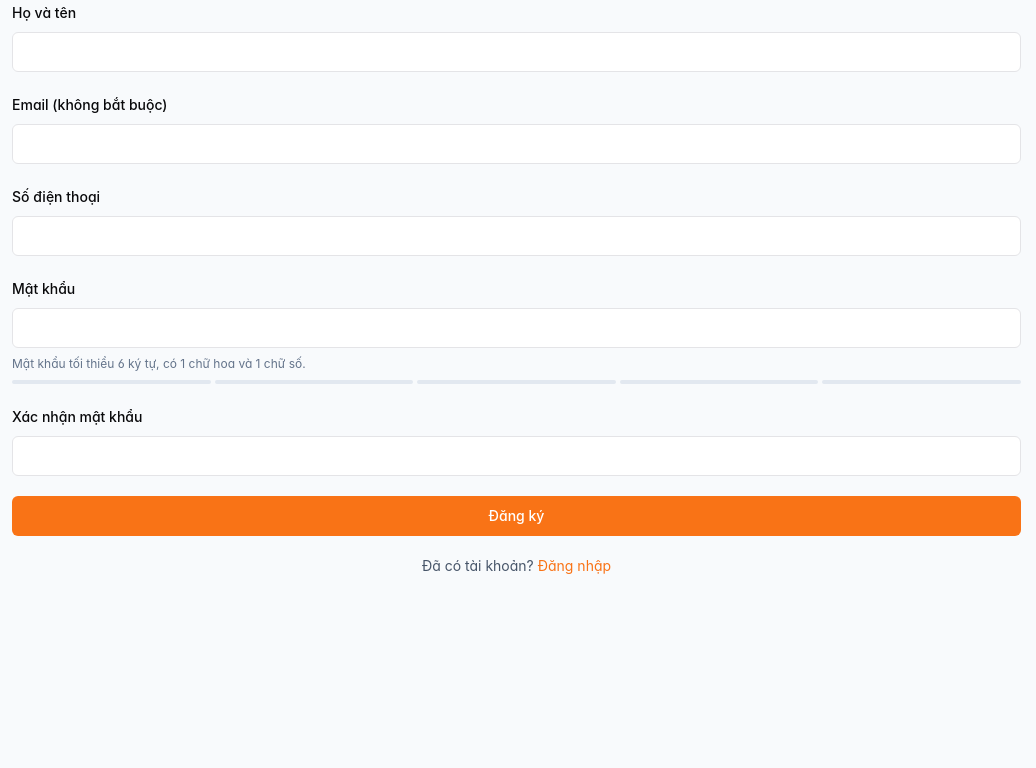
it: auth forms › surfaces the duplicate-email error inline on register
The width and height of the screenshot is (1036, 768).
Type "Nguyen Van A" into the field labelled "Họ và tên" at (516,52), box left=12, top=32, right=1021, bottom=72
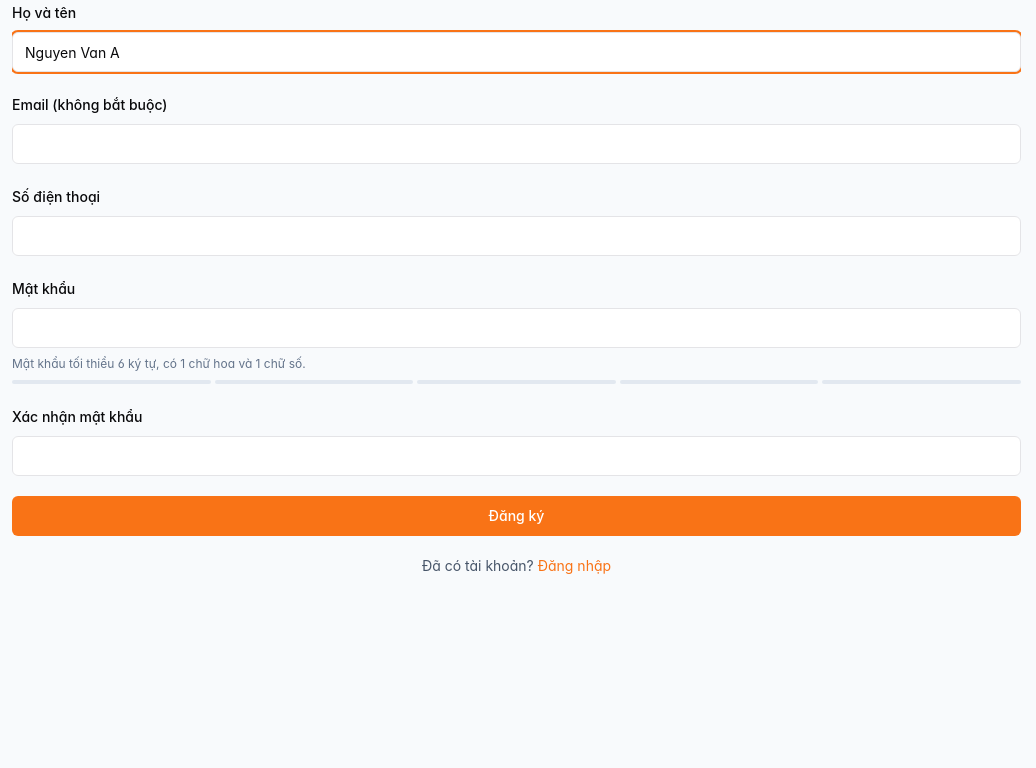
Type "ten@gmail.com" into the field labelled "Email (không bắt buộc)" at (516,144), box left=12, top=124, right=1021, bottom=164
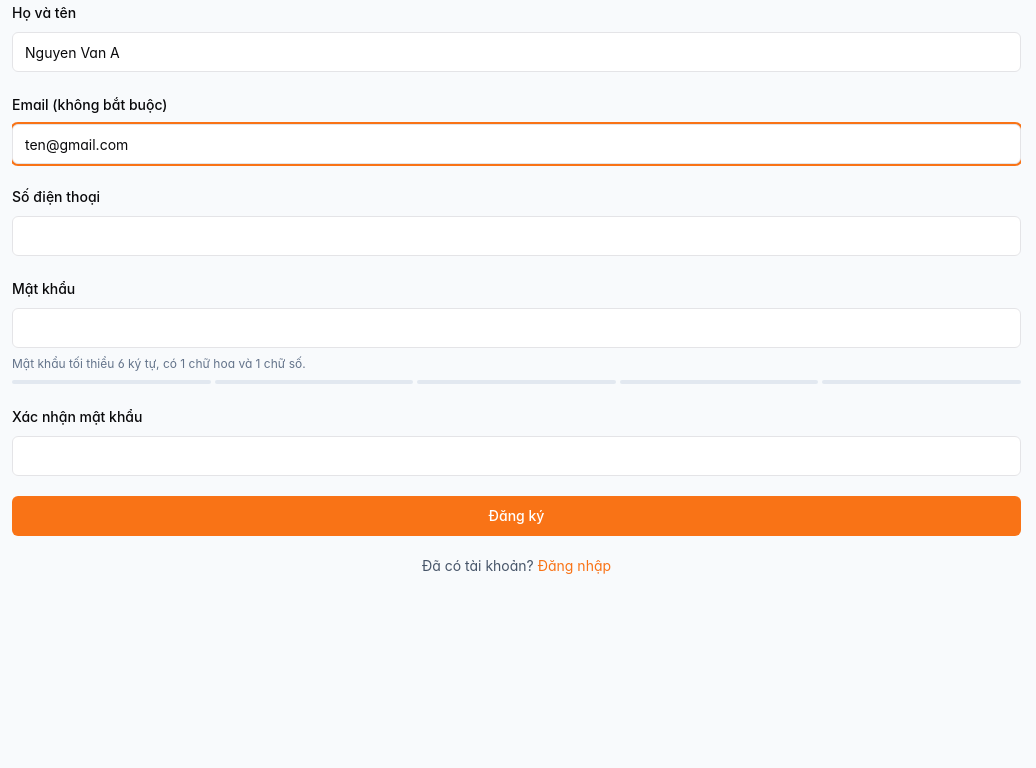
Type "0903026306" into the field labelled "Số điện thoại" at (516,236), box left=12, top=216, right=1021, bottom=256
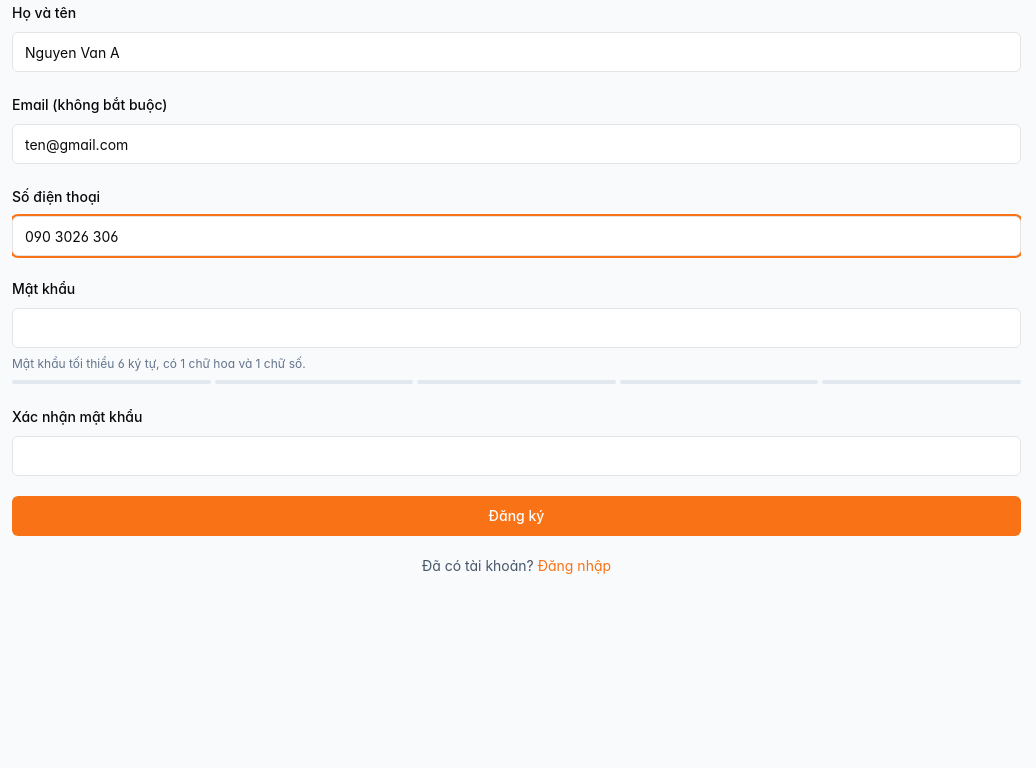
Type "Abc123" into the password field labelled "Mật khẩu" at (516,328), box left=12, top=308, right=1021, bottom=348
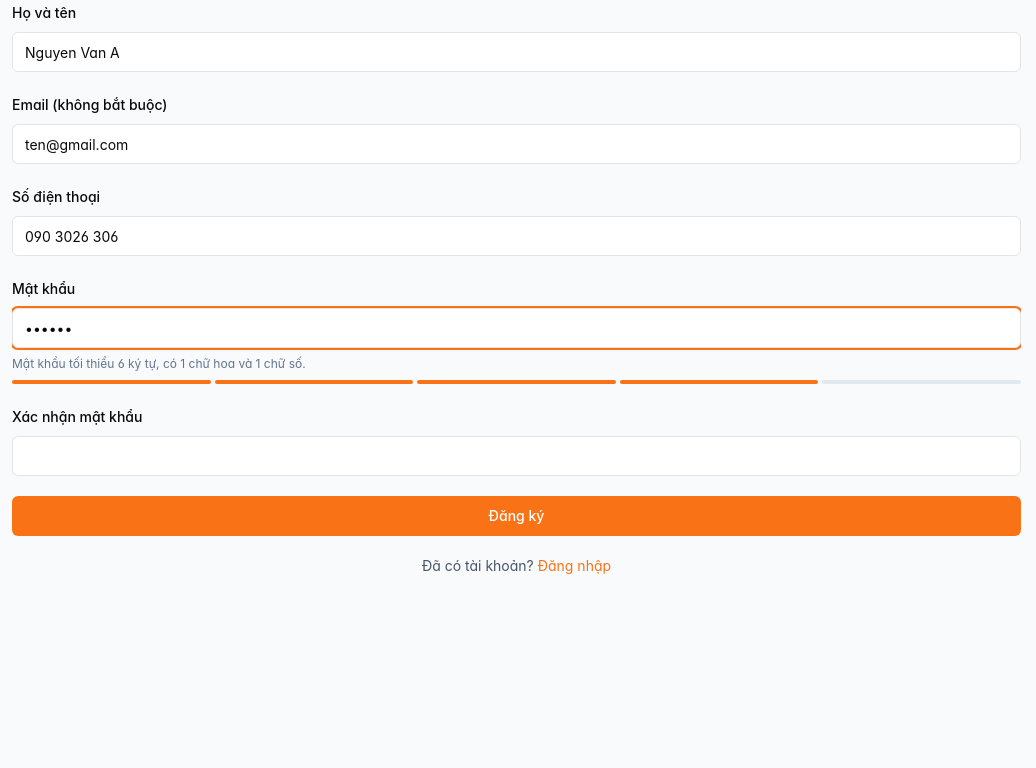
Type "Abc123" into the password field labelled "Xác nhận mật khẩu" at (516,456), box left=12, top=436, right=1021, bottom=476
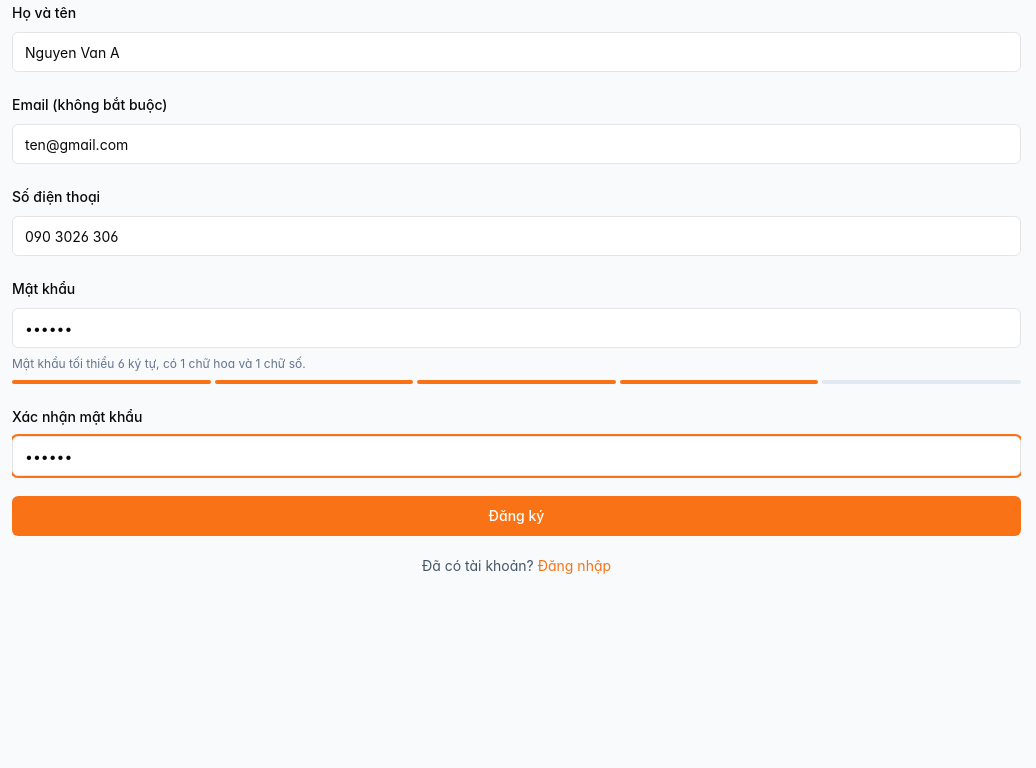
Click the button "Đăng ký" at (516,516), box left=12, top=496, right=1021, bottom=536
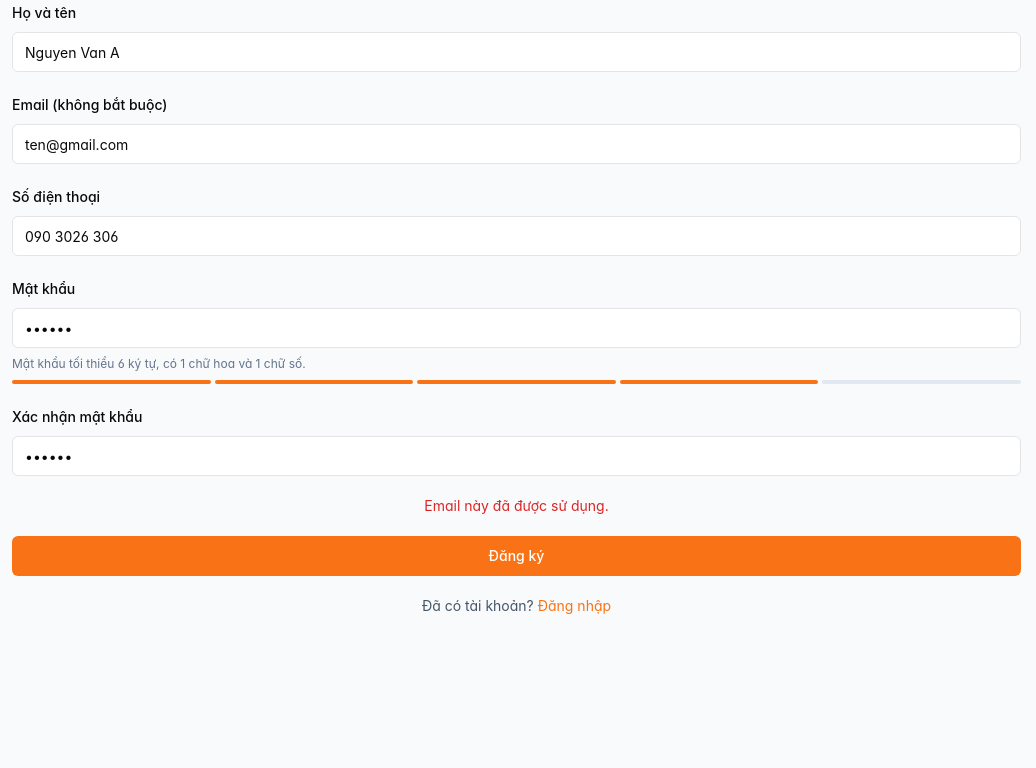
Expected: the text "Email này đã được sử dụng." is shown, left=424, top=497, right=609, bottom=514
